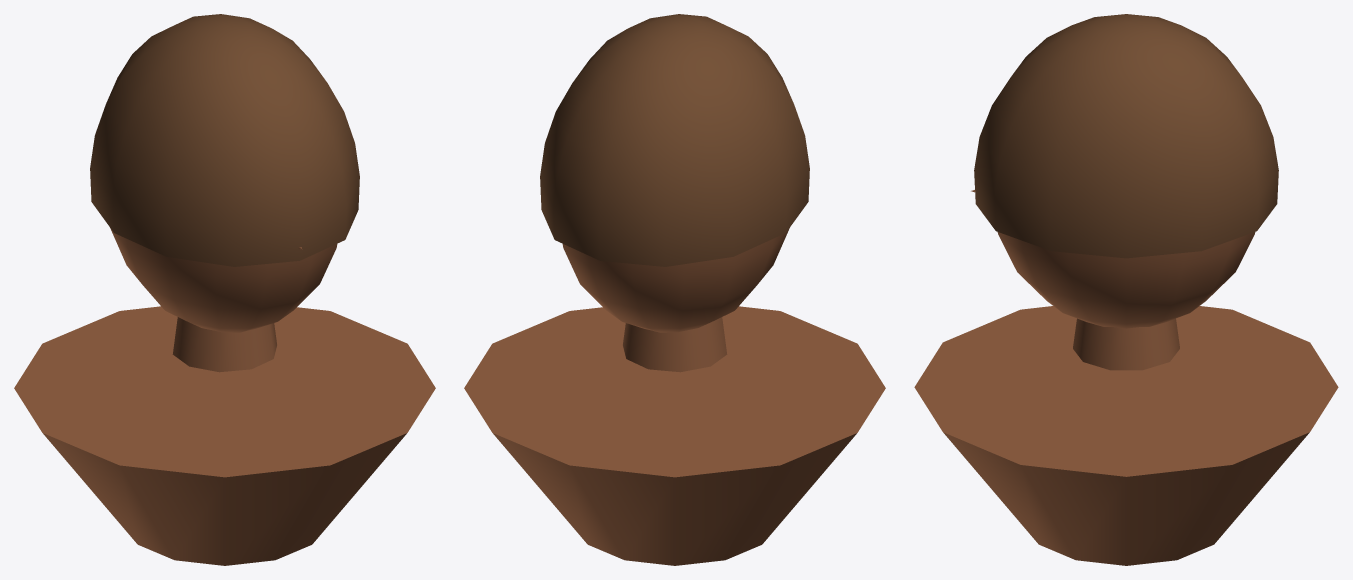
Rendered from raw_003.glb.
3 renders of one model, left to right at view 1: azimuth 30°, elevation 25°; view 2: azimuth 150°, elevation 25°; view 3: azimuth 270°, elevation 25°, orthographic.
Size of the model in its own units: 1.66 by 2.16 by 1.66.
